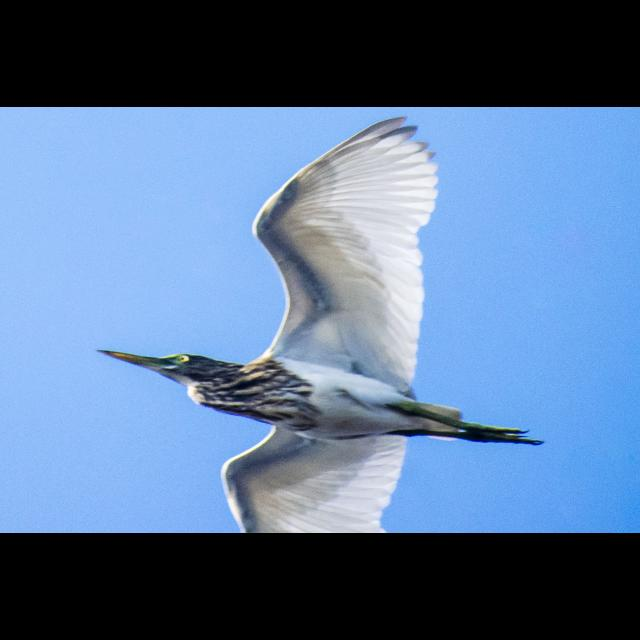egret: (86, 114, 558, 534)
